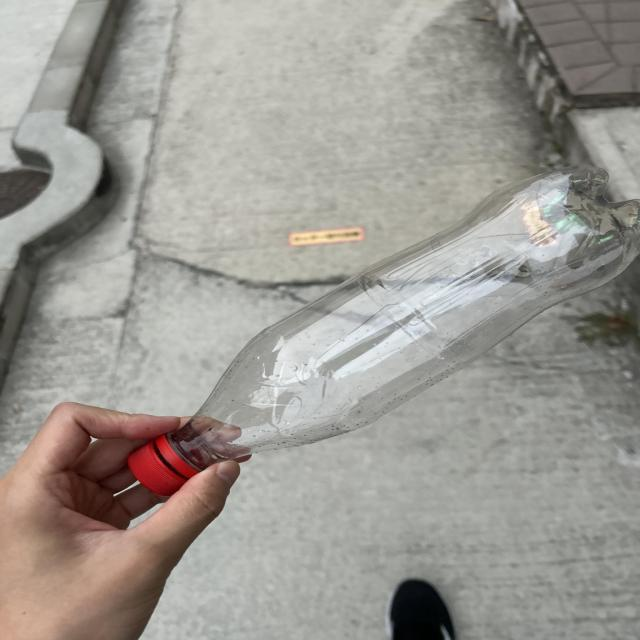empty: (129, 165, 640, 495)
